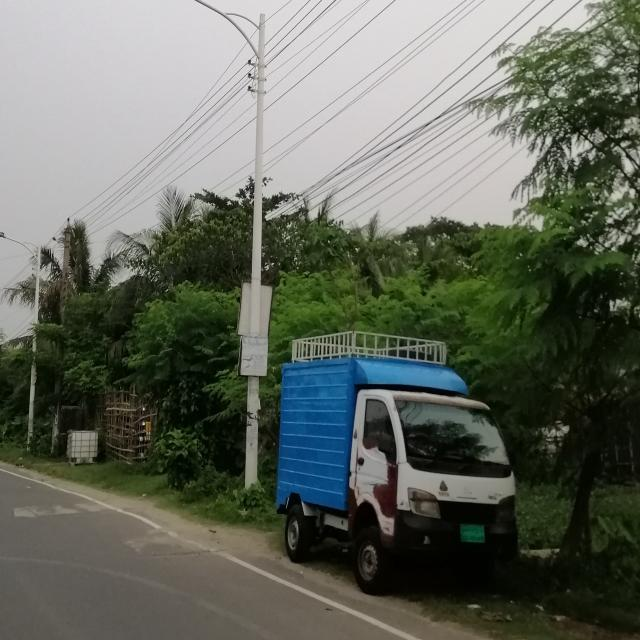Pick-up-van: (273, 328, 540, 597)
